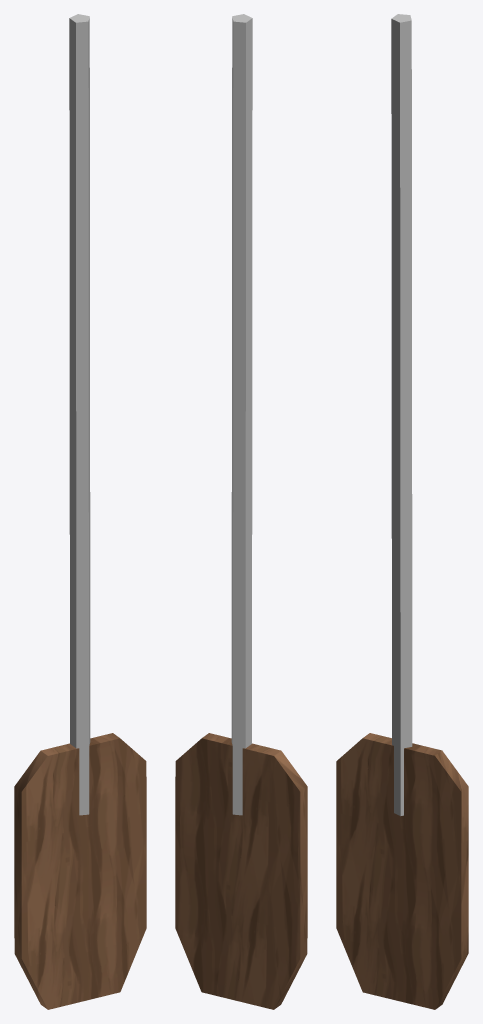
The model's file is Boat_Paddle.fbx.
3 views of the same model, side by side, from view 1: azimuth 30°, elevation 25°; view 2: azimuth 150°, elevation 25°; view 3: azimuth 330°, elevation 25° (orthographic).
Visible parts, largest first — view 1: _Boat_Paddle; view 2: _Boat_Paddle; view 3: _Boat_Paddle.
Boxes of the visible parts, left/top/right/bottom form: _Boat_Paddle: left=14, top=14, right=146, bottom=1009; _Boat_Paddle: left=175, top=14, right=307, bottom=1009; _Boat_Paddle: left=336, top=14, right=468, bottom=1009.
Bounding box in the file's own units: 31.29 × 235 × 4.52.
